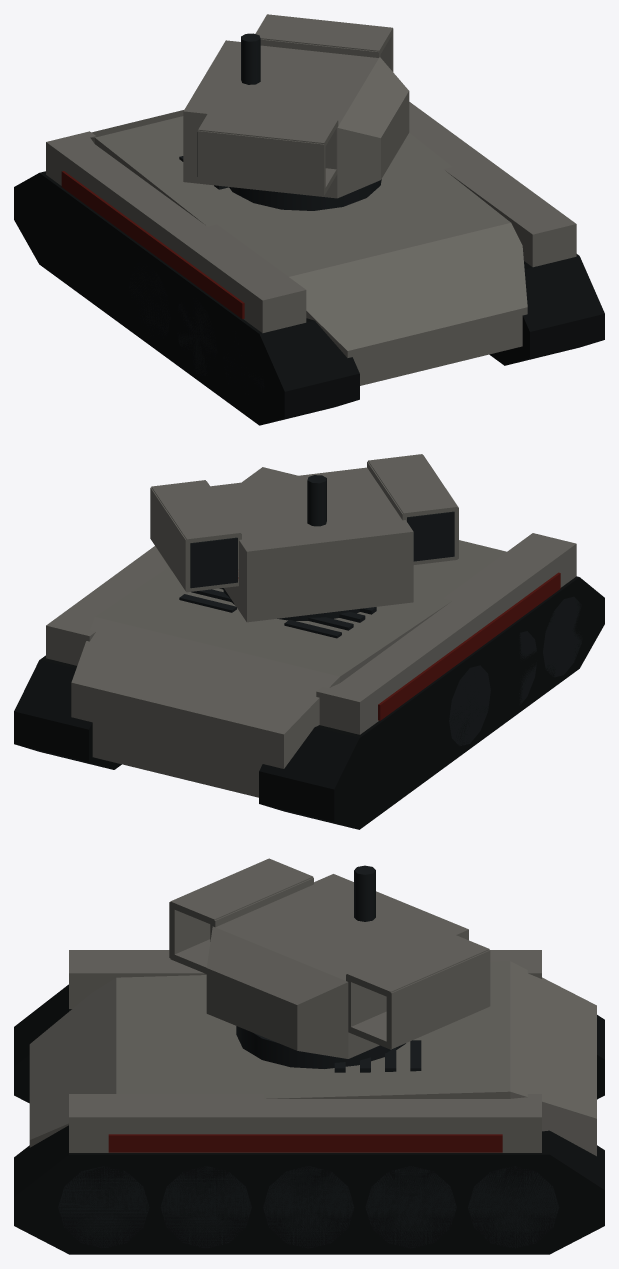
3 renders of one model, top to bottom at view 1: azimuth 30°, elevation 25°; view 2: azimuth 150°, elevation 25°; view 3: azimuth 270°, elevation 25°, orthographic. The views are drawn at different scales.
Parts seen in each view (by area): view 1: drone-tank-fleet-armor, drone-tank-fleet-rubber, turret-fleet-armor, launcher--1-fleet-armor, launcher-1-fleet-armor, drone-tank-fleet-red, drone-tank-fleet-machine, wheel--1-3-fleet-machine, turret-fleet-machine, wheel--1-2-fleet-machine; view 2: drone-tank-fleet-armor, drone-tank-fleet-rubber, turret-fleet-armor, launcher-1-fleet-armor, launcher--1-fleet-armor, drone-tank-fleet-red, wheel--1-2-fleet-machine, wheel--1-4-fleet-machine, launcher-1-fleet-machine, drone-tank-fleet-machine, launcher--1-fleet-machine, turret-fleet-machine (+1 smaller); view 3: drone-tank-fleet-armor, drone-tank-fleet-rubber, turret-fleet-armor, launcher-1-fleet-armor, drone-tank-fleet-red, launcher--1-fleet-armor, wheel-1-2-fleet-machine, wheel-1-1-fleet-machine, wheel-1-3-fleet-machine, wheel-1-4-fleet-machine, wheel-1-0-fleet-machine, drone-tank-fleet-machine (+1 smaller).
Boxes of the visible parts, box(x1,y1,x2,y2) form: drone-tank-fleet-armor: box(46, 102, 576, 385); drone-tank-fleet-rubber: box(14, 171, 604, 425); turret-fleet-armor: box(183, 40, 409, 198); launcher--1-fleet-armor: box(198, 106, 338, 195); launcher-1-fleet-armor: box(255, 14, 393, 71); drone-tank-fleet-red: box(61, 171, 244, 319); drone-tank-fleet-machine: box(179, 156, 381, 210); wheel--1-3-fleet-machine: box(177, 298, 217, 375); turret-fleet-machine: box(241, 33, 260, 84); wheel--1-2-fleet-machine: box(129, 266, 170, 338); drone-tank-fleet-armor: box(46, 467, 576, 797); drone-tank-fleet-rubber: box(14, 576, 604, 829); turret-fleet-armor: box(210, 467, 413, 622); launcher-1-fleet-armor: box(150, 480, 241, 592); launcher--1-fleet-armor: box(367, 454, 458, 564); drone-tank-fleet-red: box(378, 572, 560, 720); wheel--1-2-fleet-machine: box(449, 665, 490, 745); wheel--1-4-fleet-machine: box(543, 596, 582, 677); launcher-1-fleet-machine: box(190, 537, 237, 588); drone-tank-fleet-machine: box(179, 588, 376, 638); launcher--1-fleet-machine: box(407, 511, 454, 561); turret-fleet-machine: box(307, 475, 326, 526); drone-tank-fleet-armor: box(29, 950, 596, 1156); drone-tank-fleet-rubber: box(14, 984, 604, 1254); turret-fleet-armor: box(206, 874, 468, 1058); launcher-1-fleet-armor: box(346, 931, 490, 1049); drone-tank-fleet-red: box(108, 1134, 502, 1152); launcher--1-fleet-armor: box(169, 858, 313, 973); wheel-1-2-fleet-machine: box(263, 1166, 354, 1248); wheel-1-1-fleet-machine: box(365, 1166, 456, 1248); wheel-1-3-fleet-machine: box(160, 1166, 251, 1247); wheel-1-4-fleet-machine: box(58, 1166, 149, 1247); wheel-1-0-fleet-machine: box(468, 1166, 559, 1248); drone-tank-fleet-machine: box(236, 1026, 421, 1072).
Bounding box in the file's own units: 13.57 × 10.44 × 19.87.
